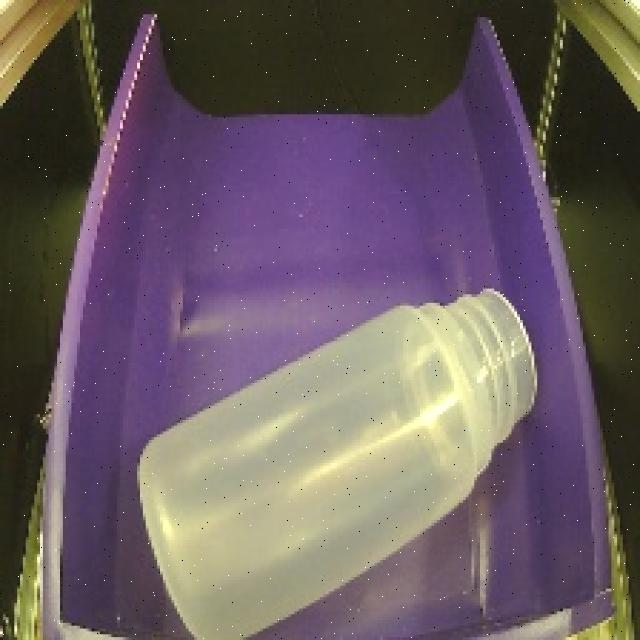plastic: (121, 274, 561, 640)
